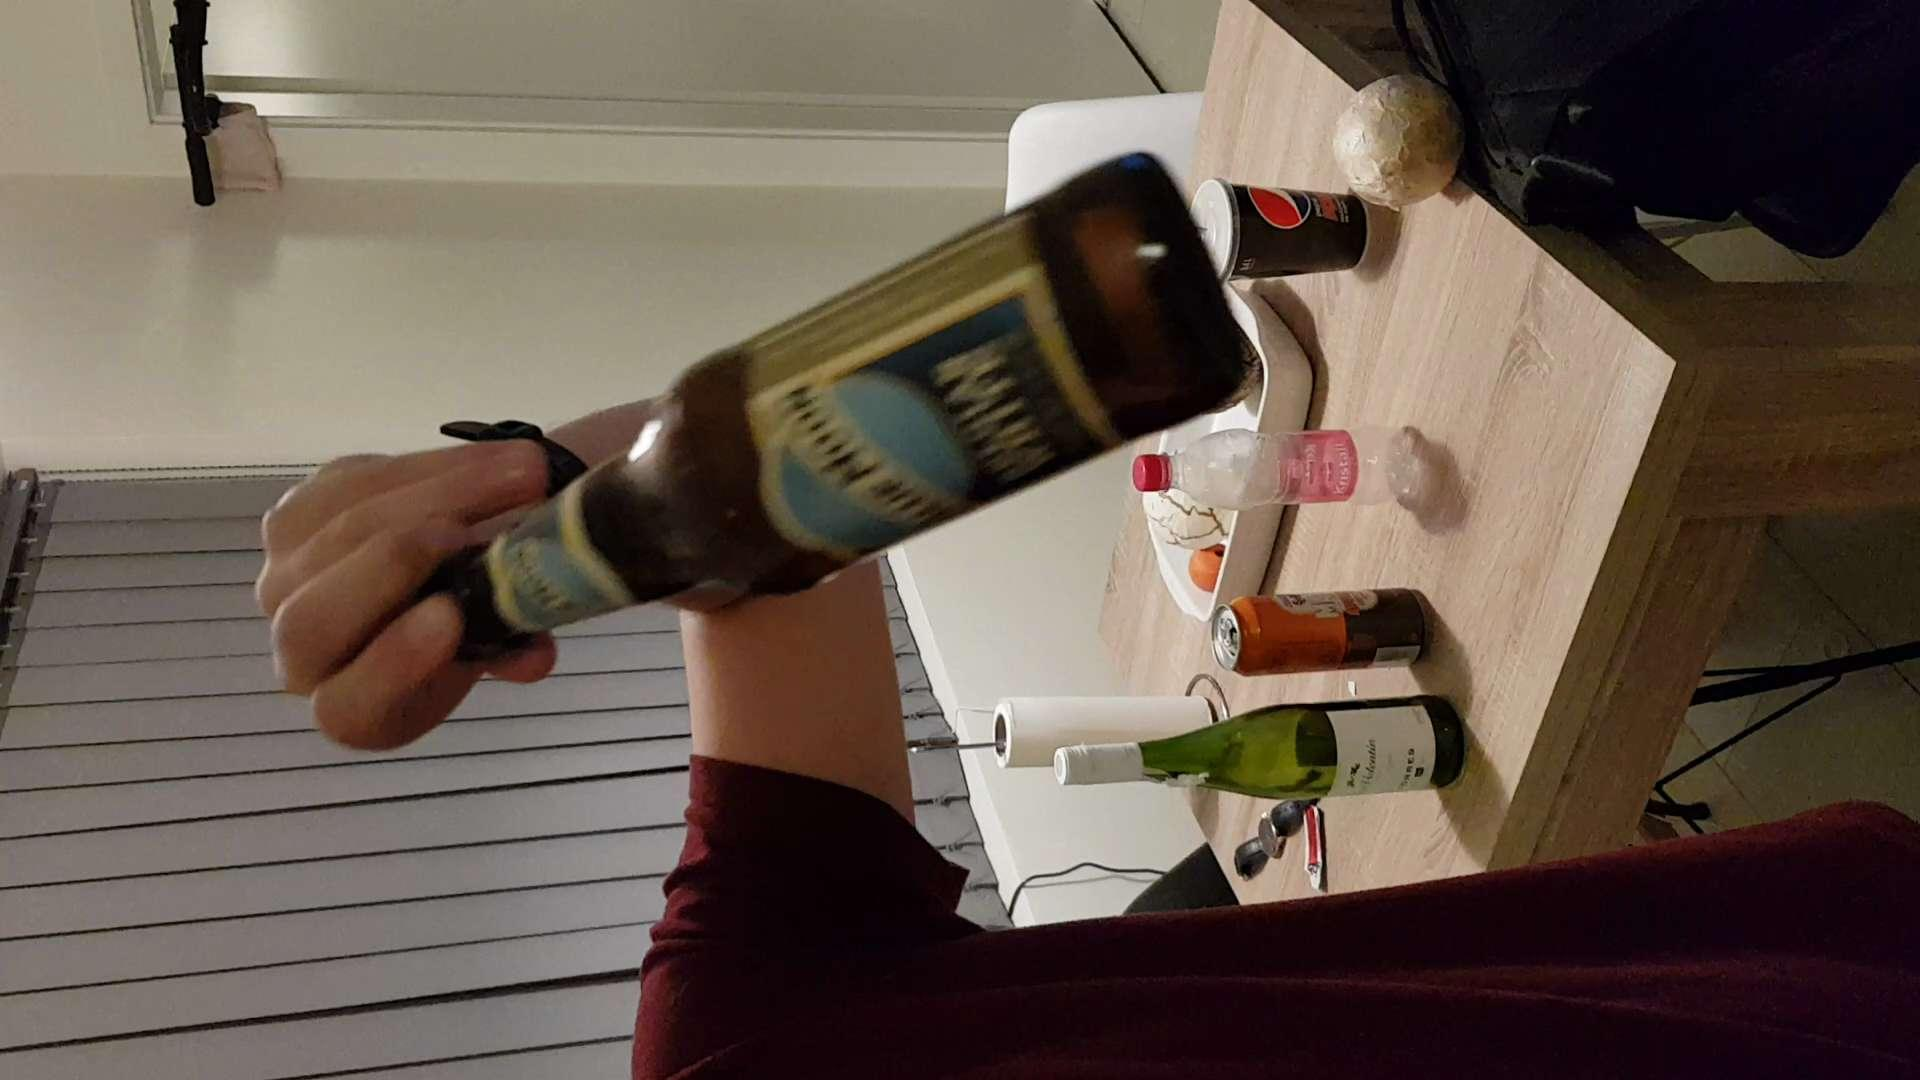Bottle: (429, 150, 1244, 655)
